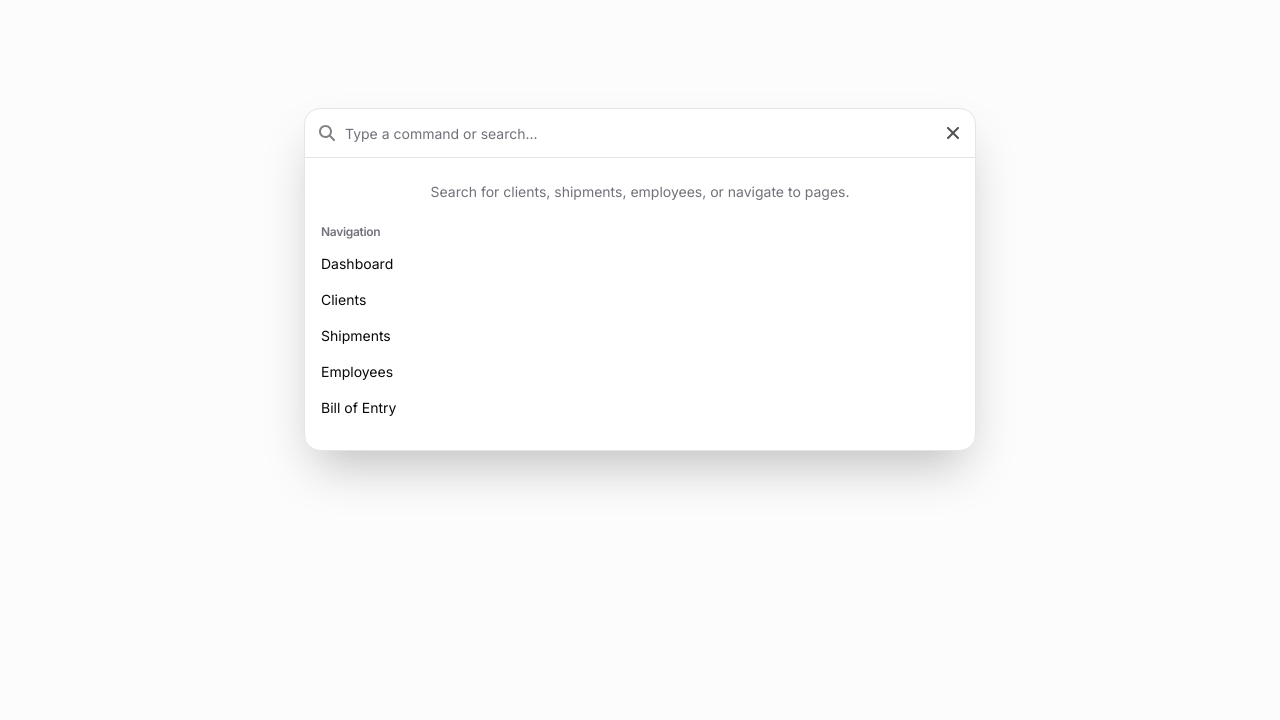
Test: CommandMenu Component › filters results based on search input
Step 1. Type "John" into the field with placeholder "Type a command or search..." → (644, 133), box [345,109,943,157]
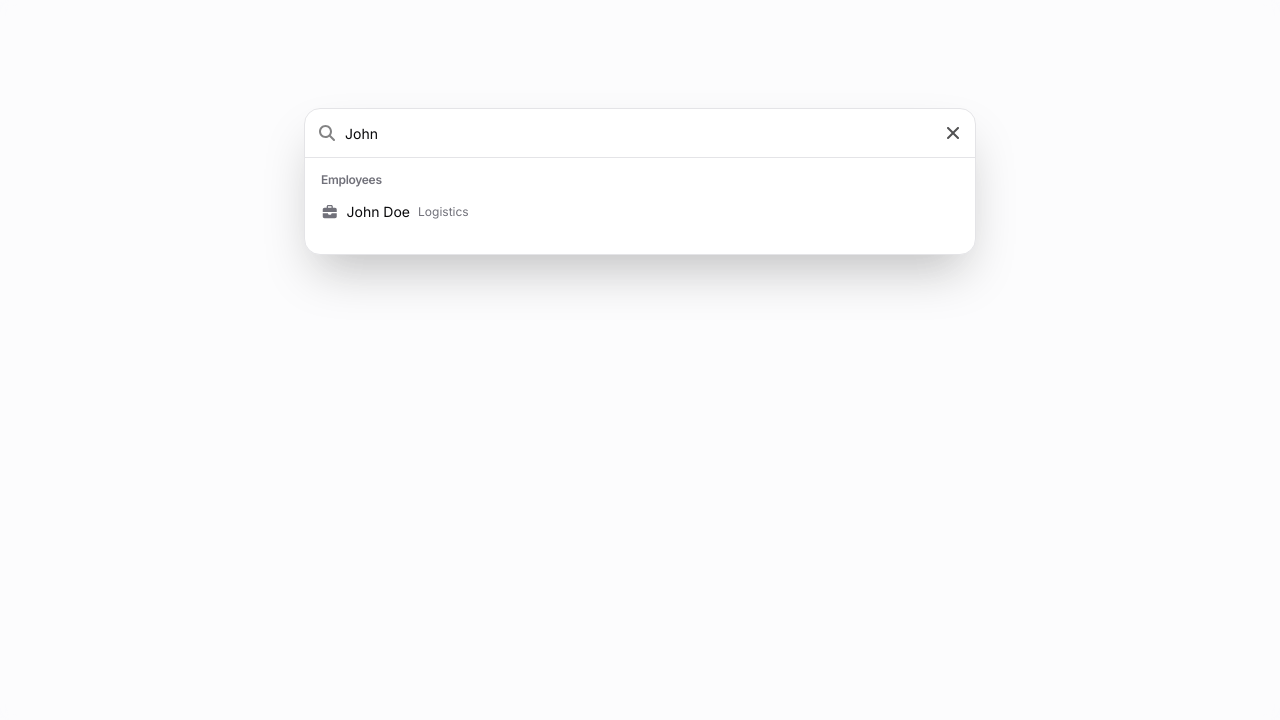
expect the button "John Doe Logistics" is shown: met, box [313,194,967,230]
expect the text "Logistics" is shown: met, box [418,204,469,220]
expect the button "Dashboard" is gone: met
